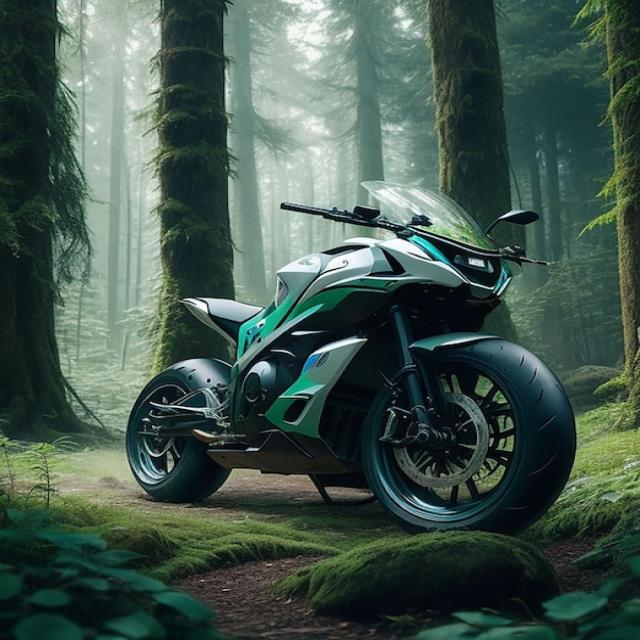Bike: (111, 172, 583, 537)
